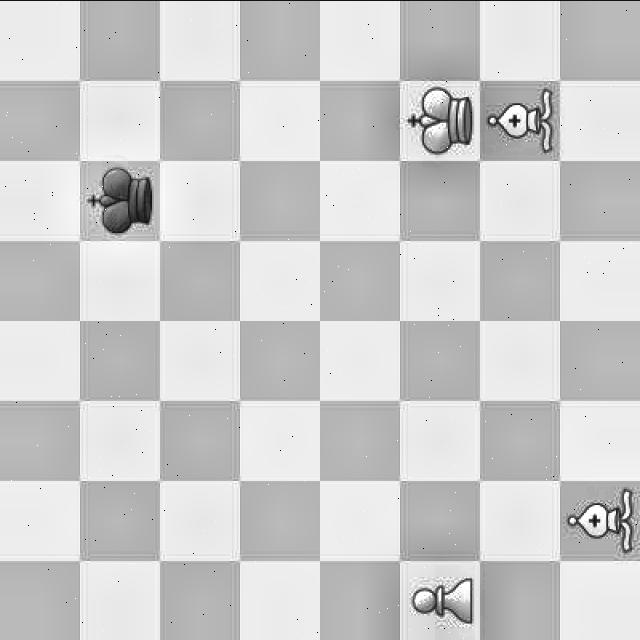black king: (80, 160, 158, 237)
white bishop: (398, 558, 480, 640), (557, 480, 640, 558), (488, 84, 561, 154)
white king: (403, 80, 481, 158)
